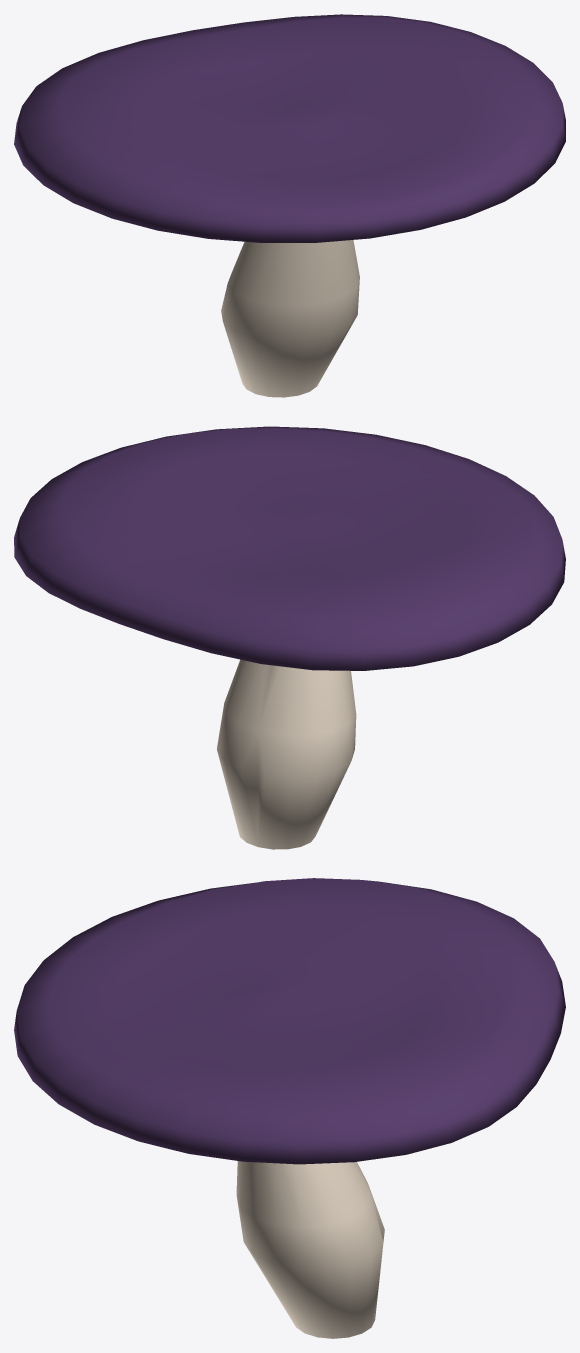
File: Siroyezhka Mushroom.fbx
3 renders of one model, top to bottom at view 1: azimuth 30°, elevation 25°; view 2: azimuth 150°, elevation 25°; view 3: azimuth 270°, elevation 25°, orthographic. The views are drawn at different scales.
Visible parts, largest first — view 1: Siroyezka mushroom; view 2: Siroyezka mushroom; view 3: Siroyezka mushroom.
Boxes of the visible parts, x1=… form: Siroyezka mushroom: x1=14, y1=14, x2=565, y2=397; Siroyezka mushroom: x1=14, y1=426, x2=565, y2=849; Siroyezka mushroom: x1=14, y1=878, x2=565, y2=1338.
Bounding box in the file's own units: 22.34 × 13.23 × 19.75.
